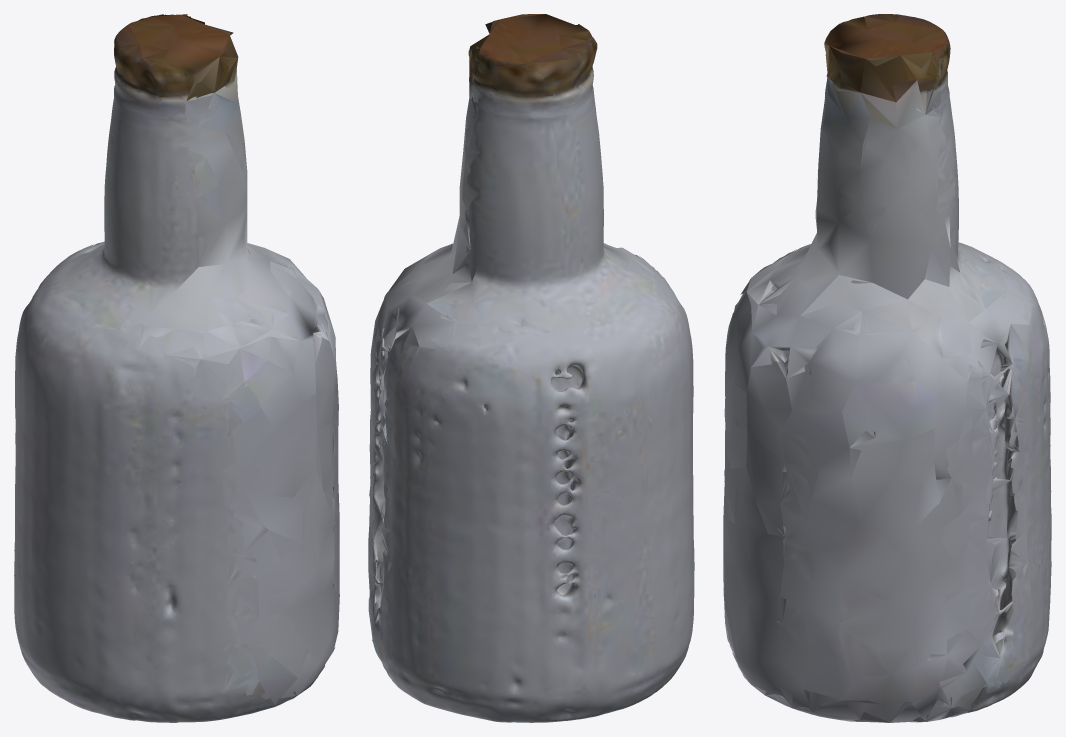
Rendered from bottle.glb.
3 views of the same model, side by side, from view 1: azimuth 30°, elevation 25°; view 2: azimuth 150°, elevation 25°; view 3: azimuth 270°, elevation 25° (orthographic).
Visible parts, largest first — view 1: high_poly; view 2: high_poly; view 3: high_poly.
Boxes of the visible parts, box(x1,y1,x2,y2) form: high_poly: box(14, 14, 339, 722); high_poly: box(368, 14, 694, 722); high_poly: box(723, 14, 1051, 722).
Bounding box in the file's own units: 0.4767 × 1 × 0.4755.
1 material, 1 textured.
